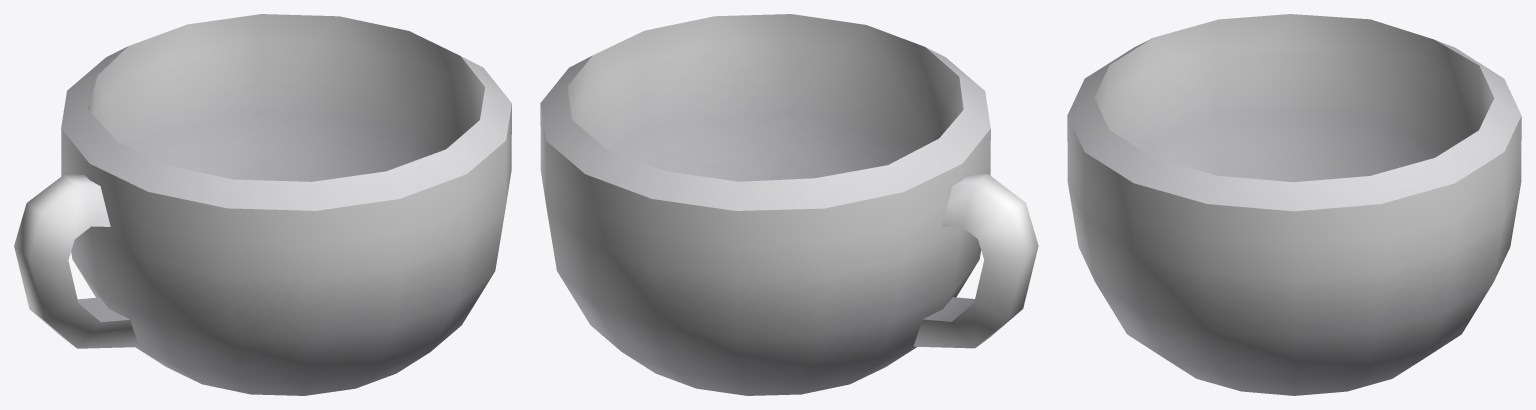
The model's file is m_Cup02.fbx.
The picture shows the model from 3 angles, left to right: view 1: azimuth 30°, elevation 25°; view 2: azimuth 150°, elevation 25°; view 3: azimuth 270°, elevation 25°; orthographic projection.
Parts seen in each view (by area): view 1: m_Cup02; view 2: m_Cup02; view 3: m_Cup02.
Part boxes in pixels (bbox=[...]): m_Cup02: bbox=[14, 14, 511, 395]; m_Cup02: bbox=[540, 14, 1038, 395]; m_Cup02: bbox=[1067, 14, 1521, 395].
Bounding box in the file's own units: 14.87 × 7.38 × 12.68.
